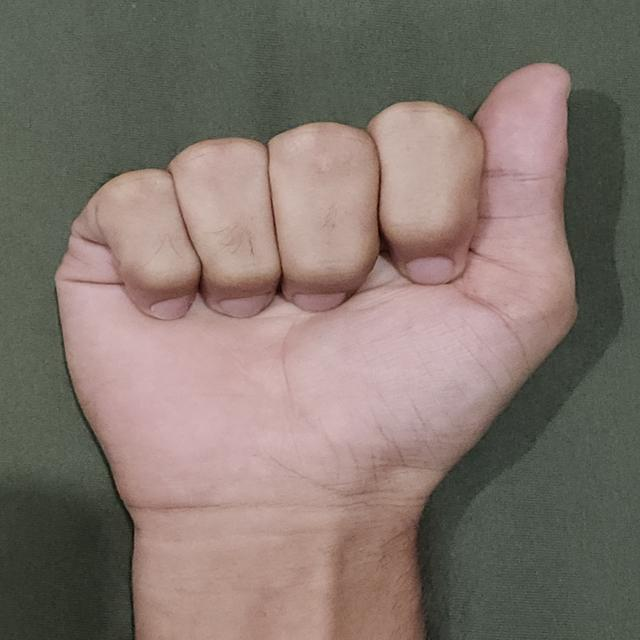ا: (41, 31, 588, 640)
